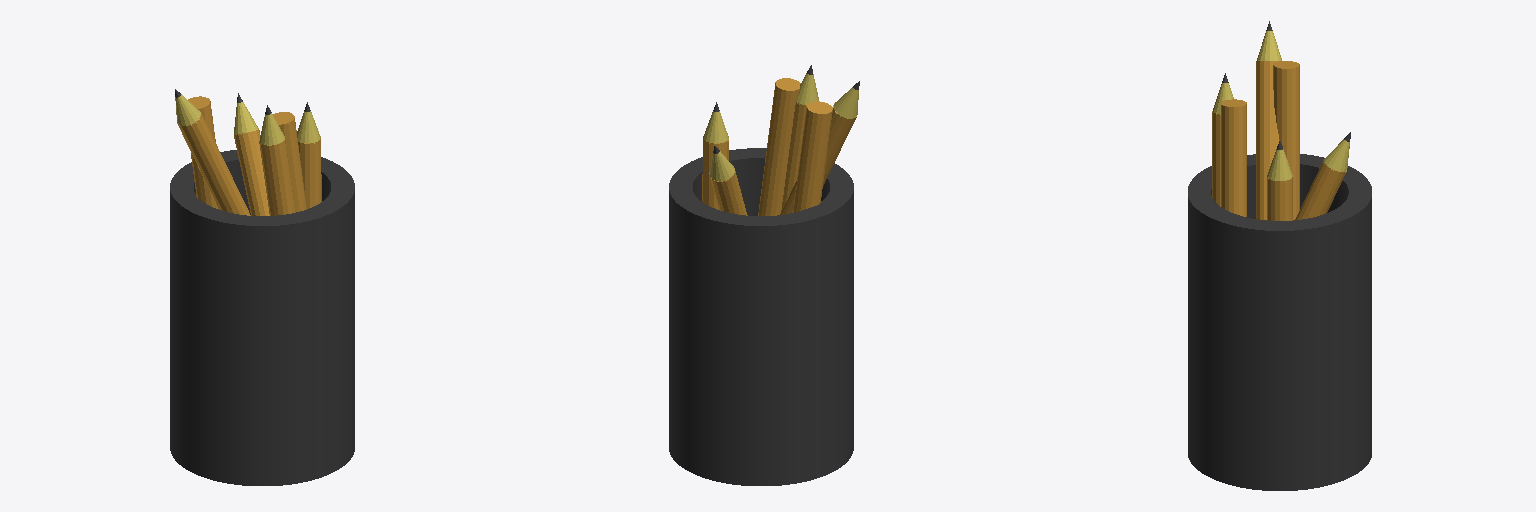
The model's file is pencil.obj.
The picture shows the model from 3 angles: view 1: azimuth 30°, elevation 25°; view 2: azimuth 150°, elevation 25°; view 3: azimuth 270°, elevation 25°; orthographic projection.
Parts seen in each view (by area): view 1: Tube, Cone.7, Cone, Cone.4, Cone.1, Cone.3, Cone.2; view 2: Tube, Cone.3, Cone.2, Cone.7, Cone, Cone.4, Cone.1; view 3: Tube, Cone.7, Cone.3, Cone.2, Cone.4, Cone.1, Cone.
Boxes of the visible parts, box(x1,y1,x2,y2) form: Tube: box(170, 150, 354, 485); Cone.7: box(175, 89, 250, 215); Cone: box(259, 105, 295, 215); Cone.4: box(234, 93, 269, 215); Cone.1: box(297, 102, 321, 208); Cone.3: box(273, 112, 306, 211); Cone.2: box(188, 96, 217, 208); Tube: box(669, 148, 853, 485); Cone.3: box(758, 78, 800, 215); Cone.2: box(793, 101, 832, 212); Cone.7: box(780, 81, 859, 214); Cone: box(781, 65, 818, 211); Cone.4: box(709, 146, 747, 215); Cone.1: box(702, 102, 728, 209); Tube: box(1188, 154, 1371, 490); Cone.7: box(1256, 21, 1281, 219); Cone.3: box(1221, 99, 1246, 216); Cone.2: box(1273, 61, 1299, 219); Cone.4: box(1295, 132, 1350, 219); Cone.1: box(1267, 141, 1292, 220); Cone: box(1212, 73, 1233, 206).
Bounding box in the file's own units: 110 × 235 × 102.